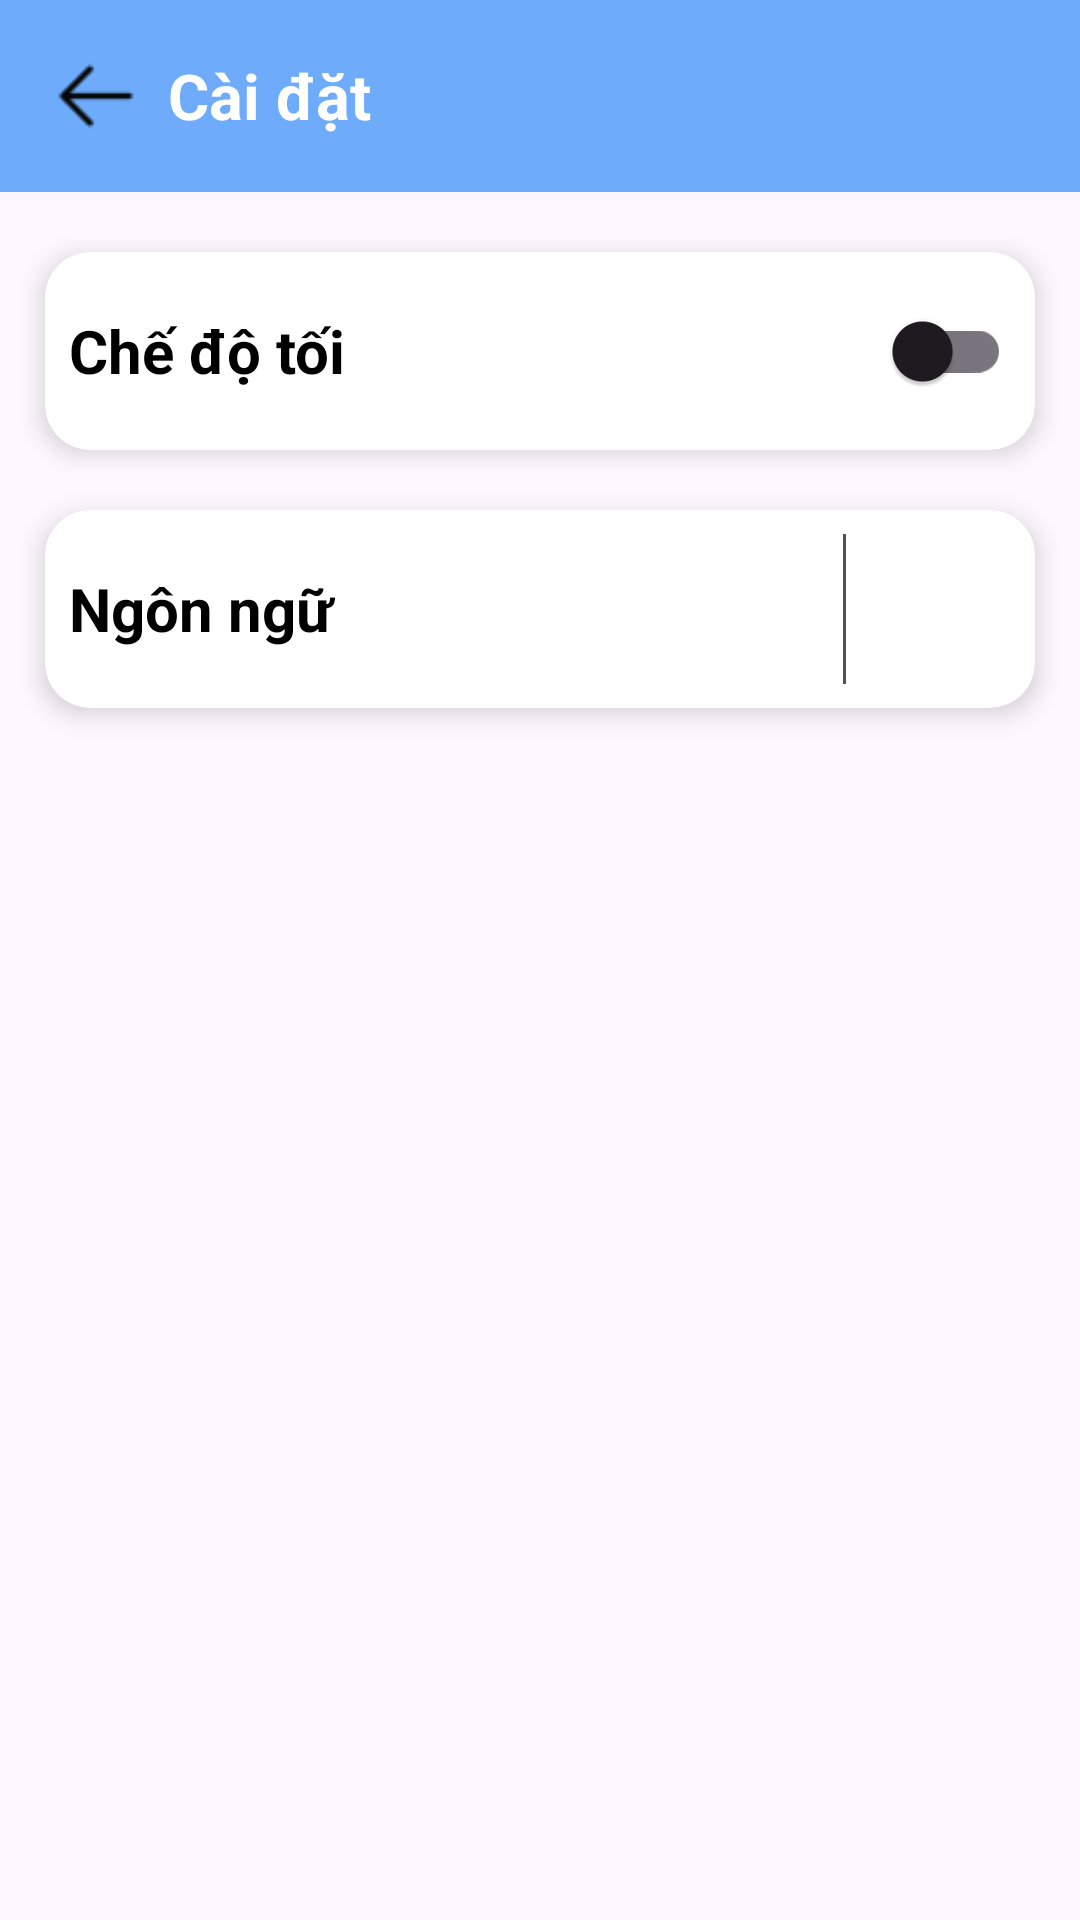

Screen size 1080×1920. Icon name, then its center in pixels as point (x, y):
back: point (96, 96)
